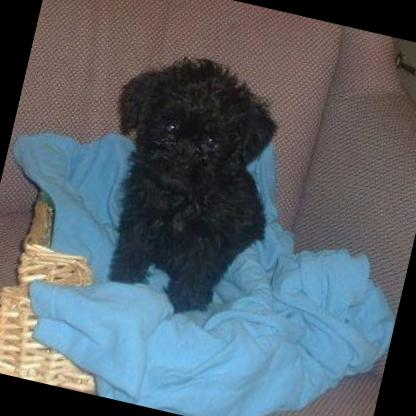affenpinscher: (68, 34, 304, 330)
